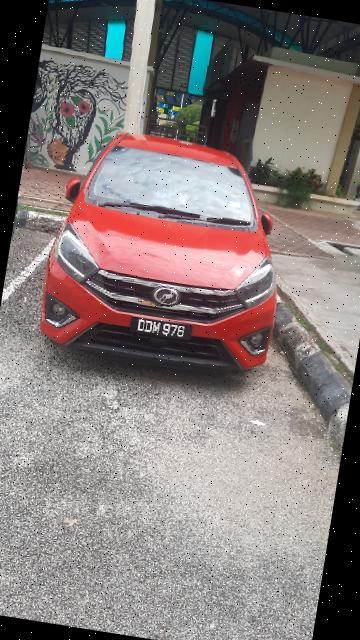License_Plate: (126, 308, 199, 347)
car: (28, 117, 308, 390)
